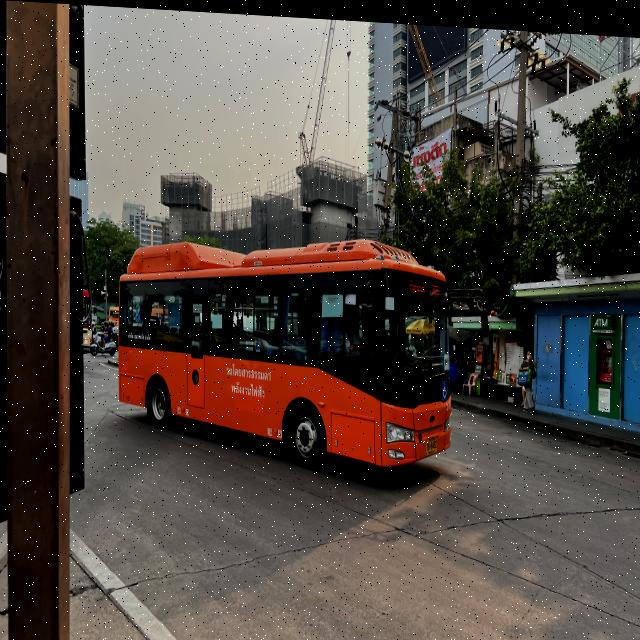TSB-Bus: (117, 224, 454, 474)
